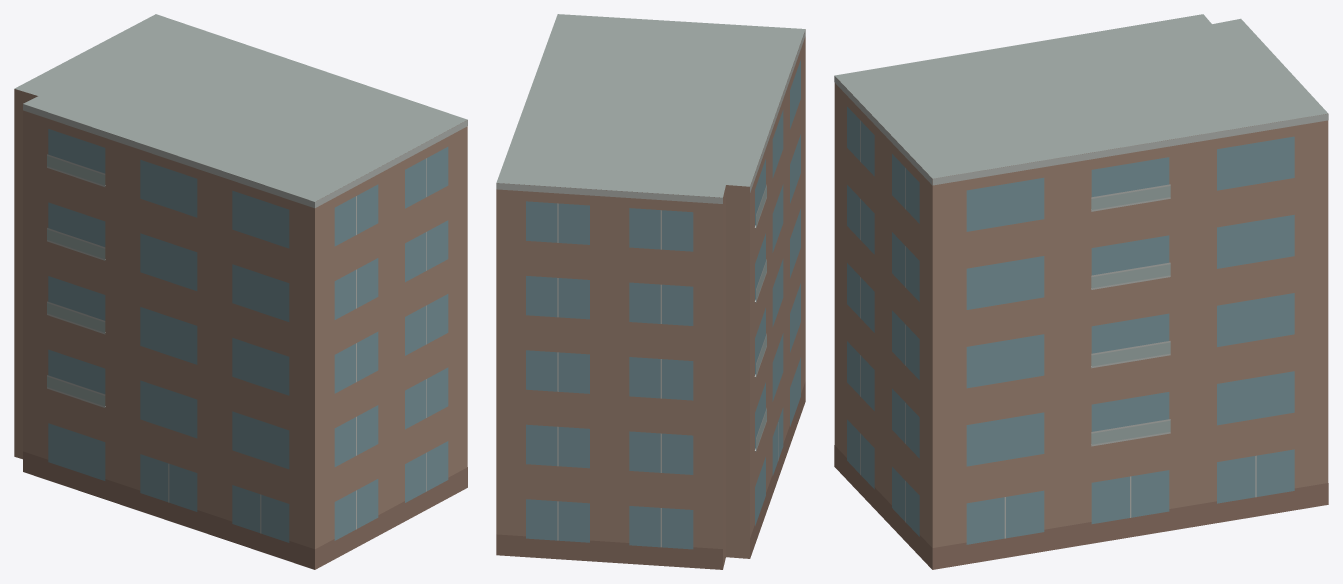
The model's file is survey-upis-32907251.glb.
3 renders of one model, left to right at view 1: azimuth 30°, elevation 25°; view 2: azimuth 150°, elevation 25°; view 3: azimuth 270°, elevation 25°, orthographic. The views are drawn at different scales.
Parts seen in each view (by area): view 1: survey-upis-32907251.tmp; view 2: survey-upis-32907251.tmp; view 3: survey-upis-32907251.tmp.
Boxes of the visible parts, bbox=[...] form: survey-upis-32907251.tmp: bbox=[14, 14, 467, 569]; survey-upis-32907251.tmp: bbox=[496, 14, 805, 569]; survey-upis-32907251.tmp: bbox=[834, 14, 1328, 569].
Bounding box in the file's own units: 12.65 × 14 × 16.03.
